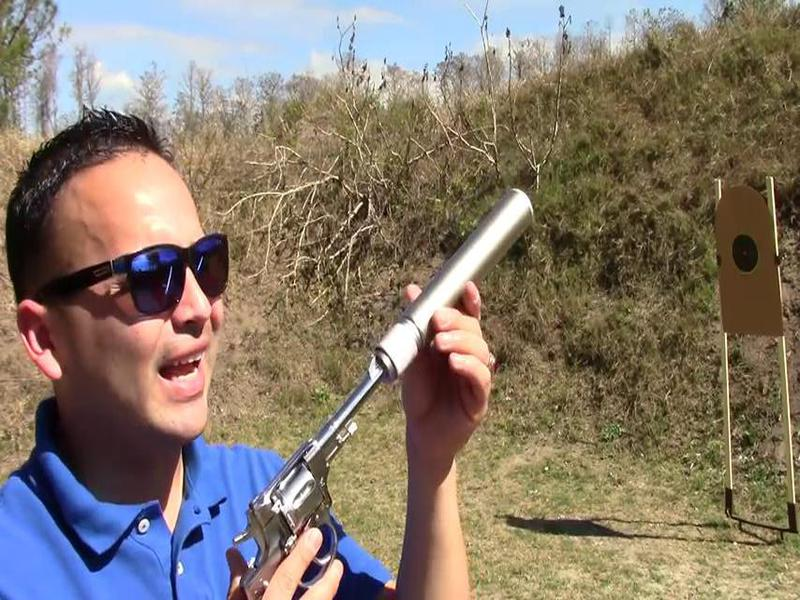Revolver: (197, 354, 387, 600)
